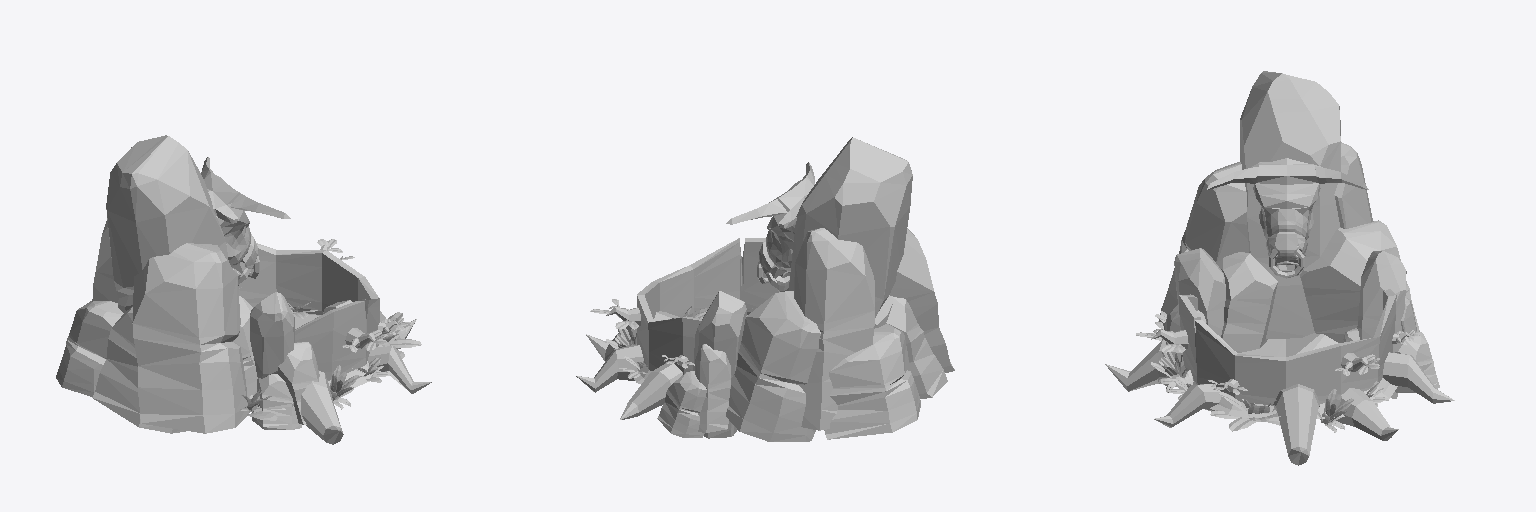
Rendered from shrine unwrapped.obj.
3 renders of one model, left to right at view 1: azimuth 30°, elevation 25°; view 2: azimuth 150°, elevation 25°; view 3: azimuth 270°, elevation 25°, orthographic.
Parts seen in each view (by area): view 1: rocks_and_tree stone20, rocks_and_tree stone17, rocks_and_tree trunk, rocks_and_tree stone9, rocks_and_tree stone21, rocks_and_tree stone18, bull_head_stylized_bull_12 bull_head_stylized_group4 bull_head_s, rocks_and_tree pCylinder13, rocks_and_tree stone8, rocks_and_tree stone19, rocks_and_tree stone6, rocks_and_tree pCylinder10 (+2 smaller); view 2: rocks_and_tree stone17, rocks_and_tree stone13, rocks_and_tree stone6, rocks_and_tree trunk, rocks_and_tree stone9, rocks_and_tree stone20, rocks_and_tree stone1, rocks_and_tree stone21, rocks_and_tree stone23, bull_head_stylized_bull_12 bull_head_stylized_group4 bull_head_s, rocks_and_tree stone22, rocks_and_tree pCylinder12 (+3 smaller); view 3: rocks_and_tree stone17, rocks_and_tree trunk, rocks_and_tree stone13, bull_head_stylized_bull_12 bull_head_stylized_group4 bull_head_s, rocks_and_tree stone20, rocks_and_tree stone16, rocks_and_tree stone1, rocks_and_tree stone18, rocks_and_tree pCylinder9, rocks_and_tree stone6, rocks_and_tree pCylinder12, rocks_and_tree pCylinder11 (+5 smaller).
Boxes of the visible parts, x1=… form: rocks_and_tree stone20: x1=132, y1=243, x2=249, y2=433; rocks_and_tree stone17: x1=106, y1=135, x2=228, y2=312; rocks_and_tree trunk: x1=238, y1=243, x2=389, y2=387; rocks_and_tree stone9: x1=56, y1=301, x2=123, y2=396; rocks_and_tree stone21: x1=92, y1=306, x2=185, y2=433; rocks_and_tree stone18: x1=250, y1=292, x2=294, y2=429; bull_head_stylized_bull_12 bull_head_stylized_group4 bull_head_s: x1=204, y1=173, x2=258, y2=268; rocks_and_tree pCylinder13: x1=301, y1=371, x2=343, y2=444; rocks_and_tree stone8: x1=277, y1=342, x2=319, y2=424; rocks_and_tree stone19: x1=255, y1=374, x2=301, y2=429; rocks_and_tree stone6: x1=92, y1=220, x2=118, y2=302; rocks_and_tree pCylinder10: x1=368, y1=346, x2=431, y2=393; rocks_and_tree stone17: x1=789, y1=137, x2=912, y2=328; rocks_and_tree stone13: x1=726, y1=291, x2=820, y2=441; rocks_and_tree stone6: x1=794, y1=228, x2=874, y2=430; rocks_and_tree trunk: x1=630, y1=238, x2=788, y2=383; rocks_and_tree stone9: x1=824, y1=324, x2=920, y2=439; rocks_and_tree stone20: x1=890, y1=228, x2=954, y2=372; rocks_and_tree stone1: x1=693, y1=291, x2=746, y2=438; rocks_and_tree stone21: x1=886, y1=297, x2=947, y2=398; rocks_and_tree stone23: x1=695, y1=344, x2=730, y2=432; bull_head_stylized_bull_12 bull_head_stylized_group4 bull_head_s: x1=759, y1=178, x2=813, y2=273; rocks_and_tree stone22: x1=657, y1=371, x2=706, y2=437; rocks_and_tree pCylinder12: x1=620, y1=363, x2=682, y2=419; rocks_and_tree stone17: x1=1240, y1=71, x2=1340, y2=338; rocks_and_tree trunk: x1=1171, y1=289, x2=1397, y2=421; rocks_and_tree stone13: x1=1300, y1=220, x2=1419, y2=342; bull_head_stylized_bull_12 bull_head_stylized_group4 bull_head_s: x1=1251, y1=158, x2=1322, y2=263; rocks_and_tree stone20: x1=1159, y1=162, x2=1248, y2=325; rocks_and_tree stone16: x1=1217, y1=252, x2=1277, y2=352; rocks_and_tree stone1: x1=1357, y1=251, x2=1406, y2=398; rocks_and_tree stone18: x1=1174, y1=248, x2=1225, y2=336; rocks_and_tree pCylinder9: x1=1273, y1=384, x2=1319, y2=465; rocks_and_tree stone6: x1=1334, y1=142, x2=1372, y2=228; rocks_and_tree pCylinder12: x1=1383, y1=352, x2=1454, y2=403; rocks_and_tree pCylinder11: x1=1336, y1=388, x2=1398, y2=440.
Bounding box in the file's own units: 13.69 × 10.69 × 12.1.